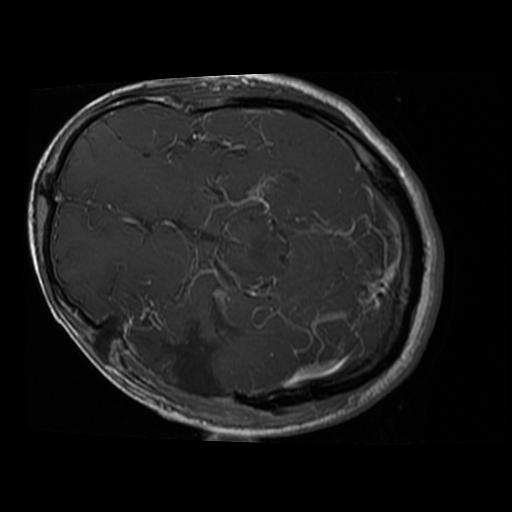glioma: (159, 319, 220, 397)
